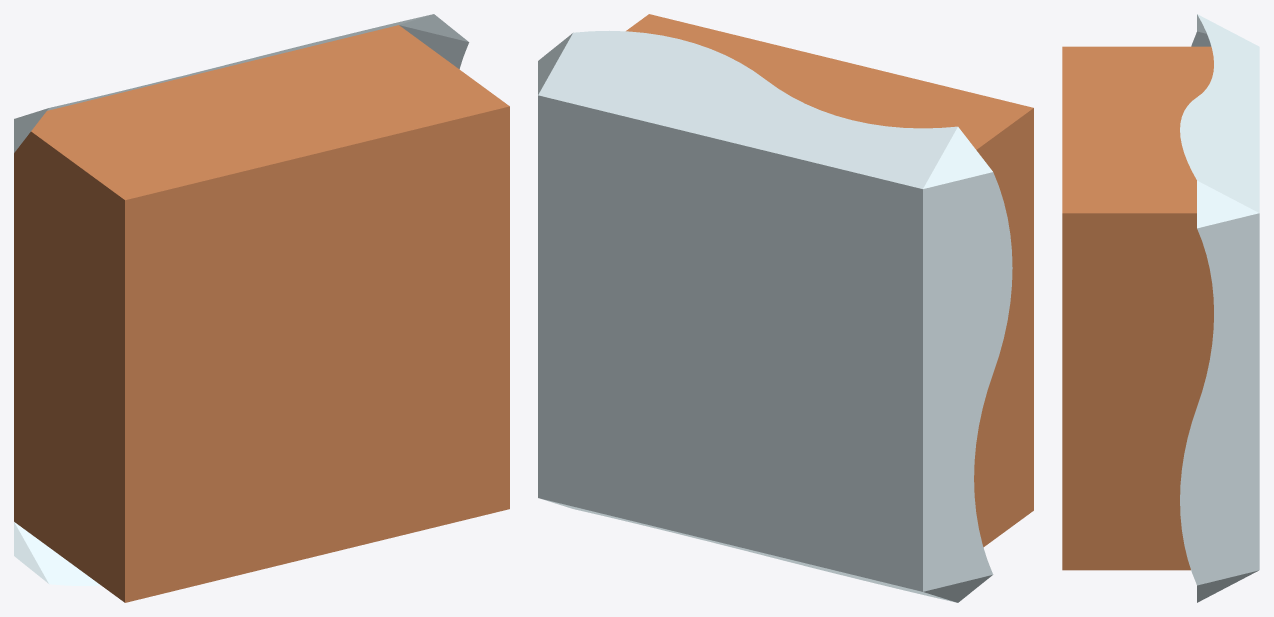
File: blockSnowHalf.obj
3 views of the same model, side by side, from view 1: azimuth 30°, elevation 25°; view 2: azimuth 150°, elevation 25°; view 3: azimuth 270°, elevation 25° (orthographic). The views are drawn at different scales.
Parts seen in each view (by area): view 1: blockSnowHalf; view 2: blockSnowHalf; view 3: blockSnowHalf.
Boxes of the visible parts, x1,y1,x2,y2 form: blockSnowHalf: (14,14,509,602); blockSnowHalf: (538,14,1033,602); blockSnowHalf: (1062,14,1259,602).
Bounding box in the file's own units: 1.23 × 1.23 × 0.5.
